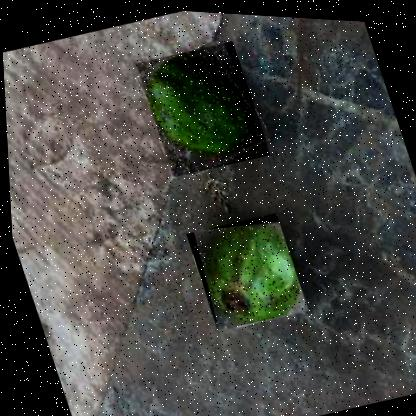guava: (134, 32, 270, 179), (182, 203, 307, 332)
